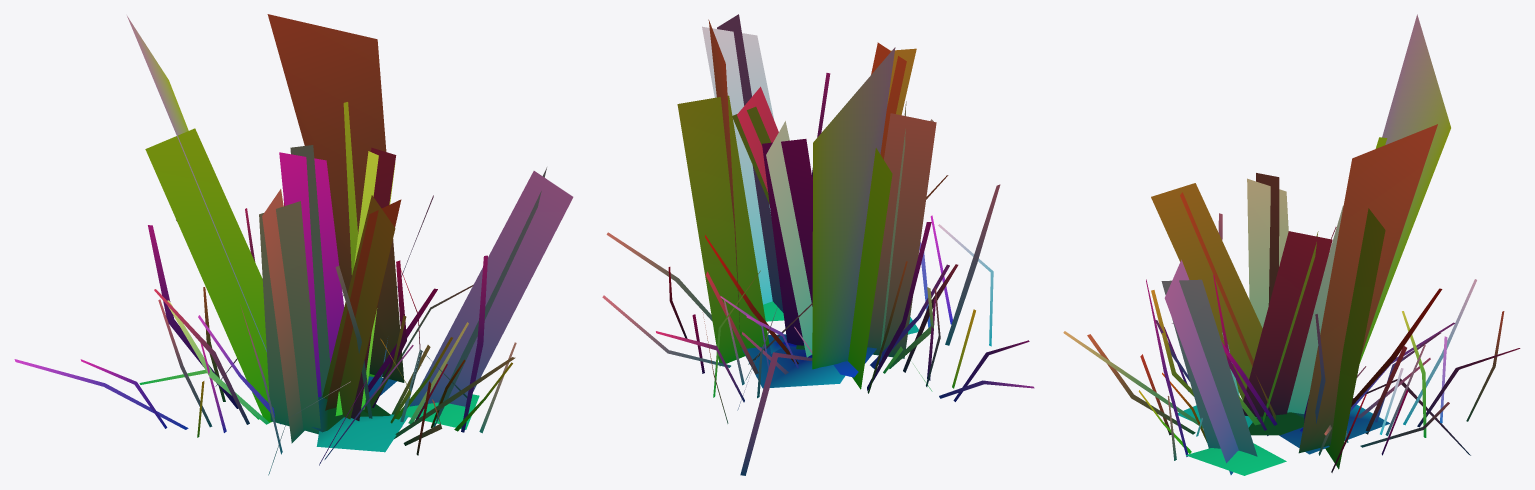
The model's file is uddmcgbia_VarB_LOD1.fbx.
3 renders of one model, left to right at view 1: azimuth 30°, elevation 25°; view 2: azimuth 150°, elevation 25°; view 3: azimuth 270°, elevation 25°, orthographic. The views are drawn at different scales.
Parts seen in each view (by area): view 1: _547e_VarB_LOD3; view 2: _547e_VarB_LOD3; view 3: _547e_VarB_LOD3.
Boxes of the visible parts, box(x1,y1,x2,y2) form: _547e_VarB_LOD3: box(14, 14, 573, 475); _547e_VarB_LOD3: box(602, 14, 1034, 475); _547e_VarB_LOD3: box(1063, 14, 1520, 475).
Bounding box in the file's own units: 15.57 × 13.92 × 14.86.
